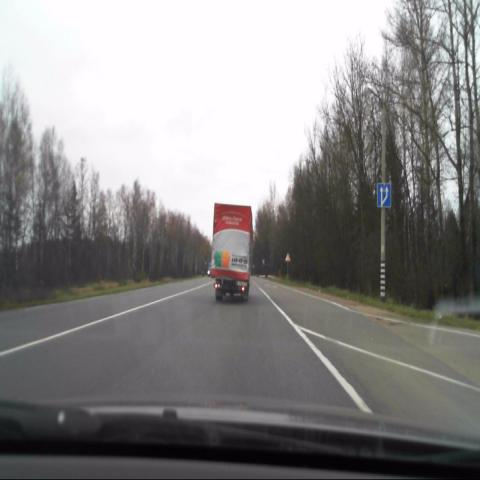5_15_3: (377, 182, 392, 208)
